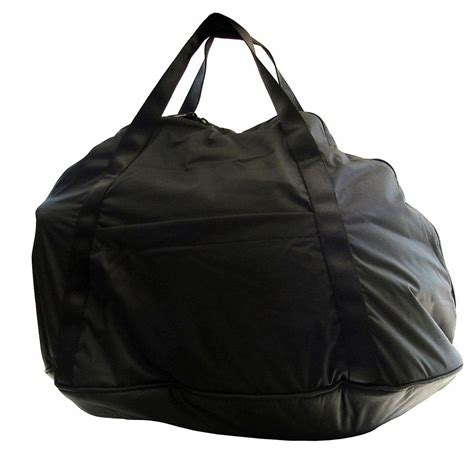nylon: (34, 11, 464, 442)
